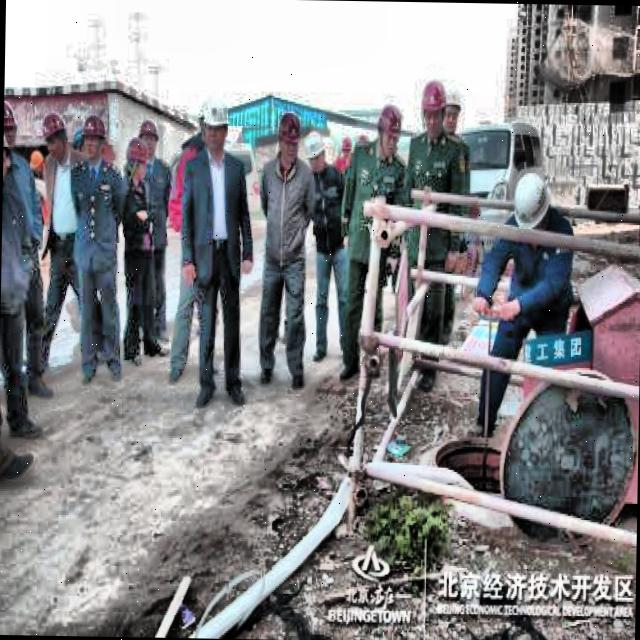helmet: (514, 164, 556, 250), (418, 75, 453, 137), (298, 125, 331, 181), (374, 99, 404, 157), (272, 107, 300, 167), (200, 98, 233, 148), (41, 107, 70, 159), (80, 111, 106, 167), (441, 85, 464, 143), (126, 138, 150, 184), (4, 100, 20, 154), (140, 118, 160, 159), (340, 131, 356, 166)
